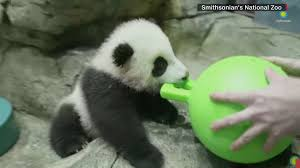panda: (39, 14, 201, 164)
